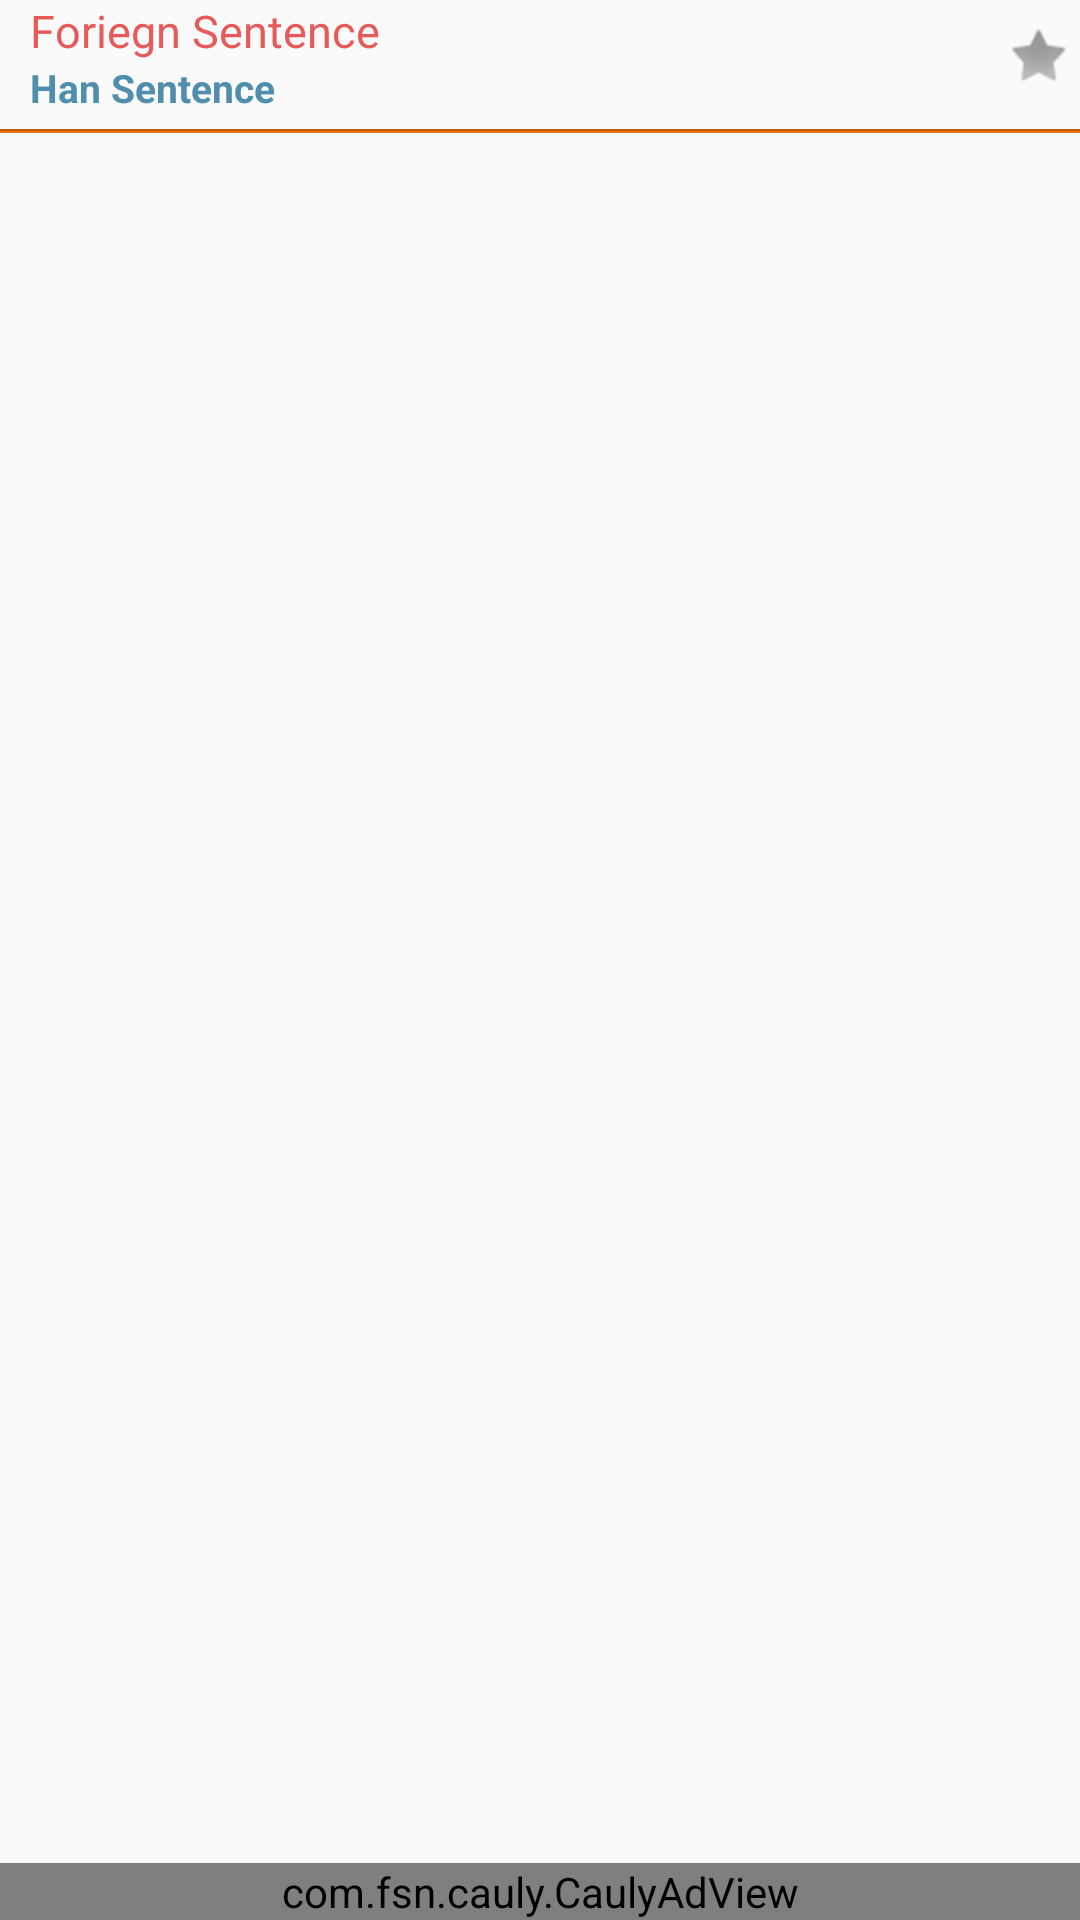

Where icons sit on this 1080w x 1920h app screen, as box=[x1, y1, x2, y2]:
star off: box=[1012, 29, 1065, 80]
